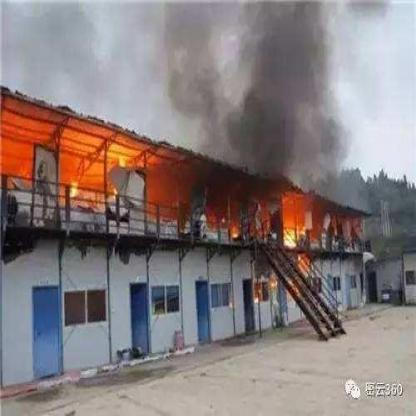fire: (212, 188, 317, 308), (50, 144, 140, 222)
smoke: (169, 7, 333, 184)
